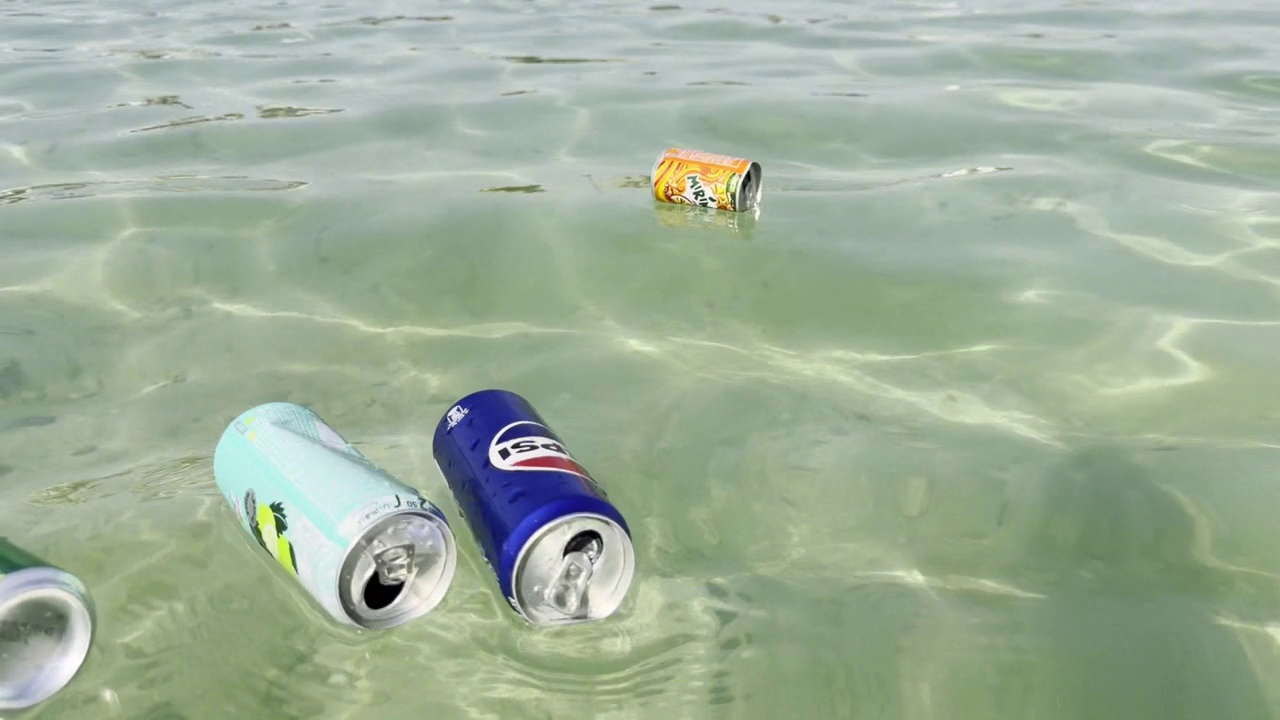debris: (189, 395, 463, 646), (422, 388, 649, 635), (1, 524, 99, 720), (650, 141, 768, 235)
